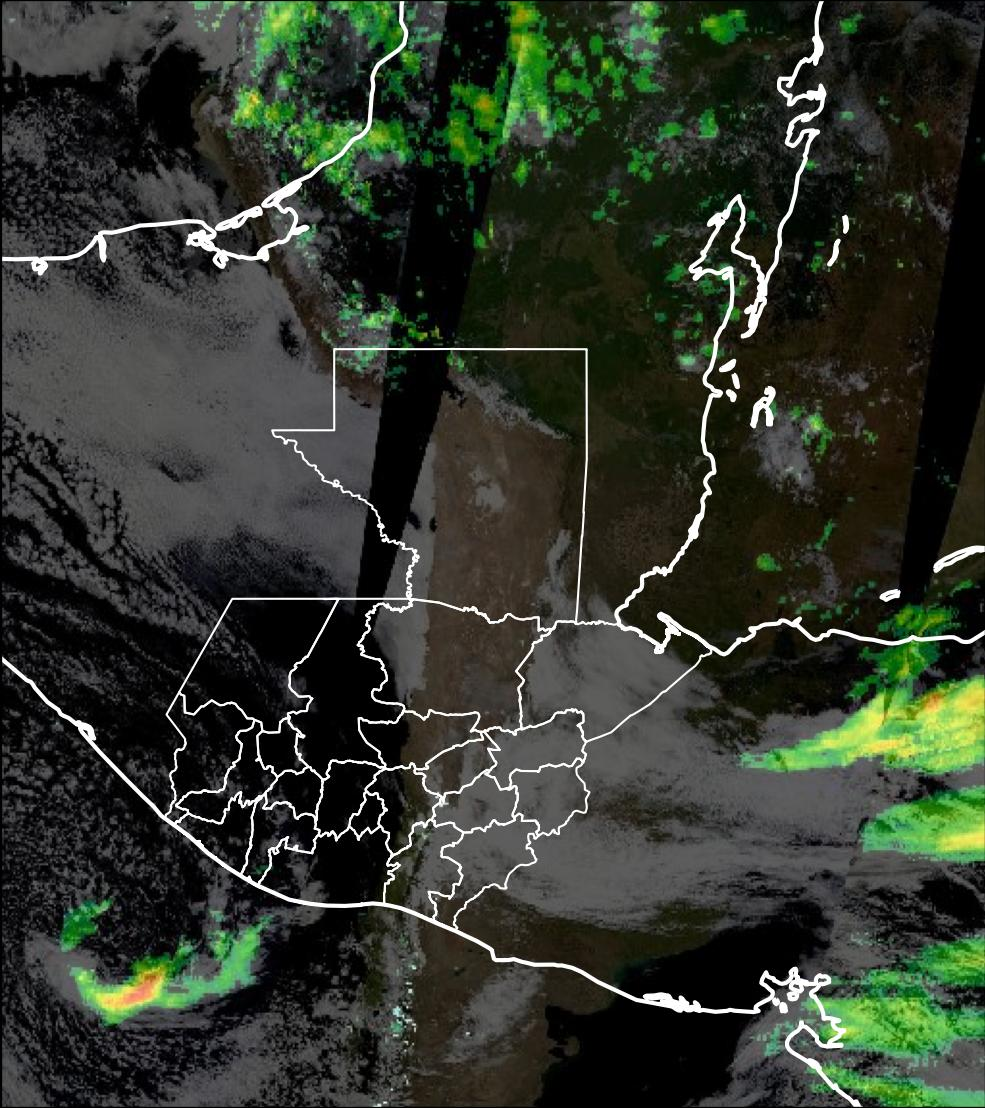precipitacion: (97, 959, 162, 1016)
